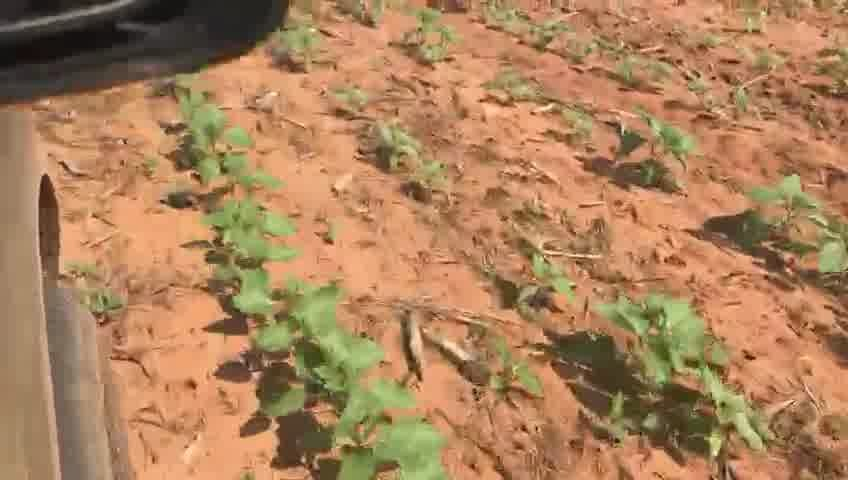sunflower: (303, 379, 456, 476), (249, 325, 378, 421), (616, 295, 724, 398), (247, 277, 350, 356), (207, 199, 297, 264), (753, 173, 814, 248), (629, 120, 696, 182), (204, 260, 276, 317), (526, 250, 583, 321), (205, 150, 284, 199), (181, 102, 255, 153), (411, 4, 462, 64), (373, 115, 421, 175), (418, 158, 459, 201)
